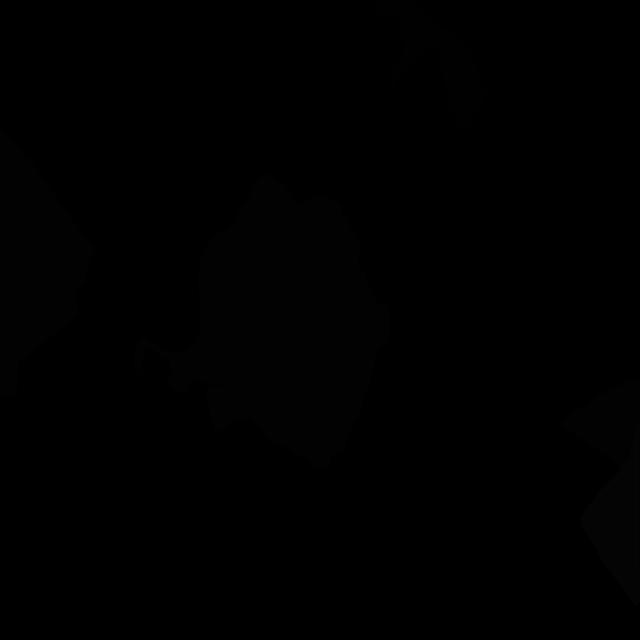cardboard: (134, 194, 362, 394), (206, 263, 390, 468), (0, 128, 97, 396), (197, 174, 296, 342), (558, 376, 640, 466)
rigid_plastic: (368, 0, 488, 134)
soft_plastic: (580, 417, 640, 606)
